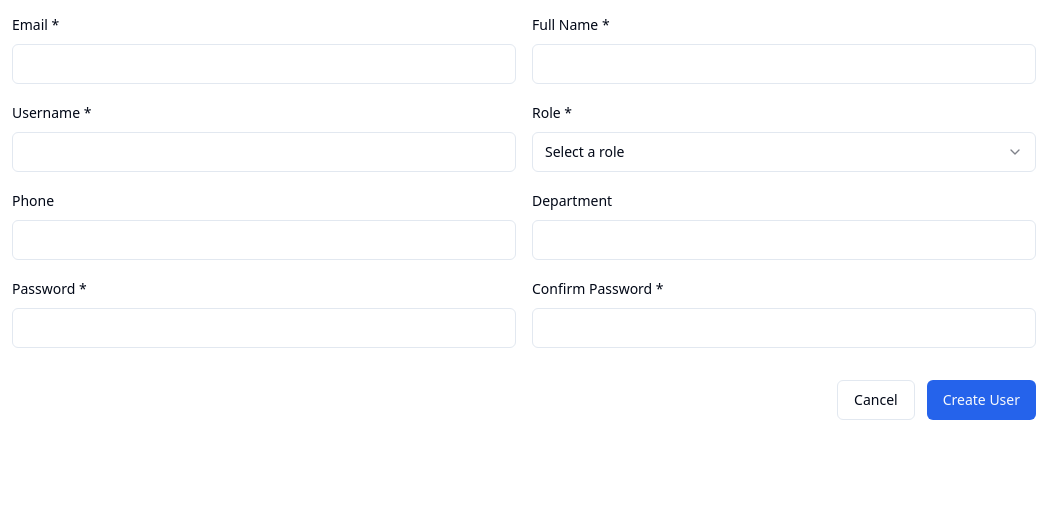
Test: UserForm › Create Mode › validates password confirmation match
The width and height of the screenshot is (1048, 521).
Type "password123" into the password field labelled "Password *".
click(264, 328); type("password123")  # box x1=12 y1=308 x2=516 y2=348
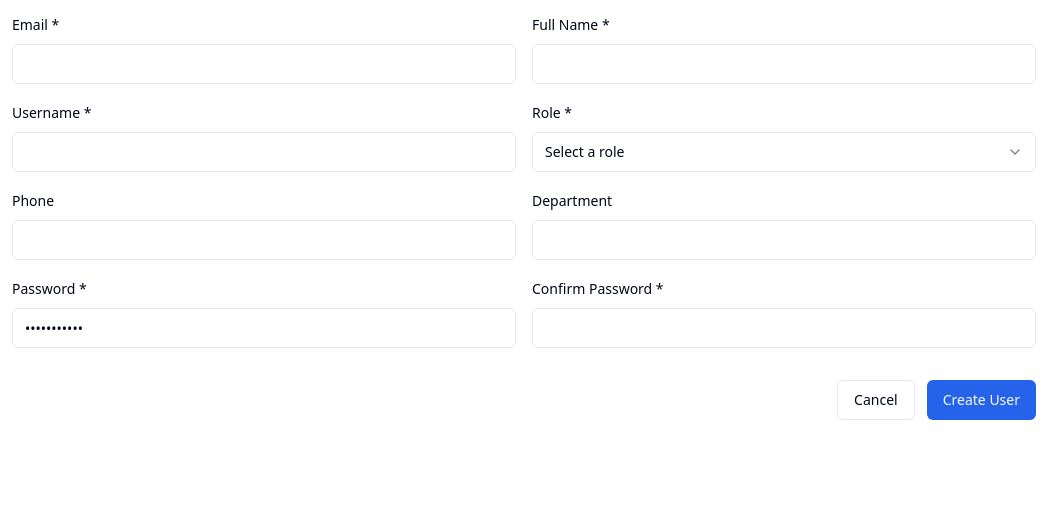
Type "password456" into the password field labelled "Confirm Password *".
click(784, 328); type("password456")  # box x1=532 y1=308 x2=1036 y2=348
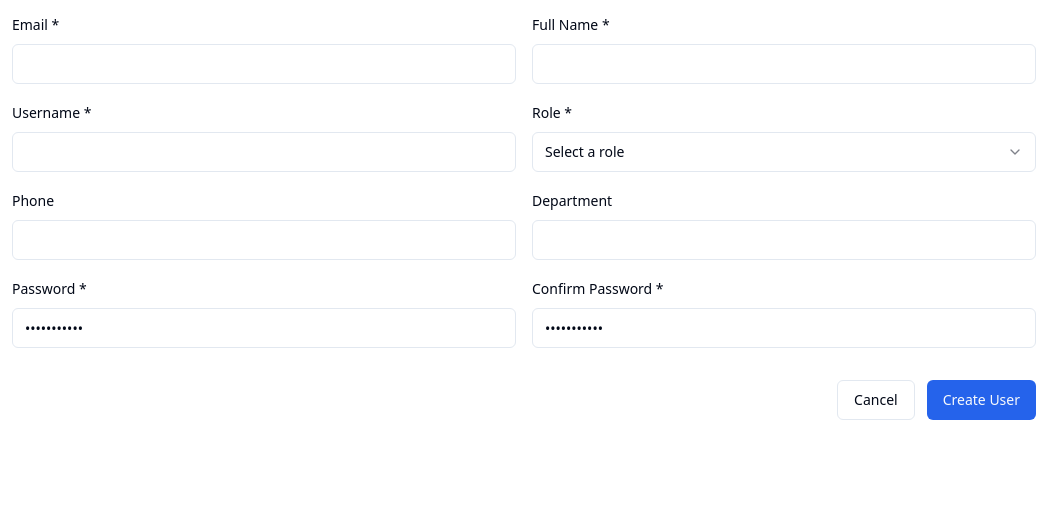
Click the button "Create User".
click(981, 400)  # box x1=927 y1=380 x2=1036 y2=420
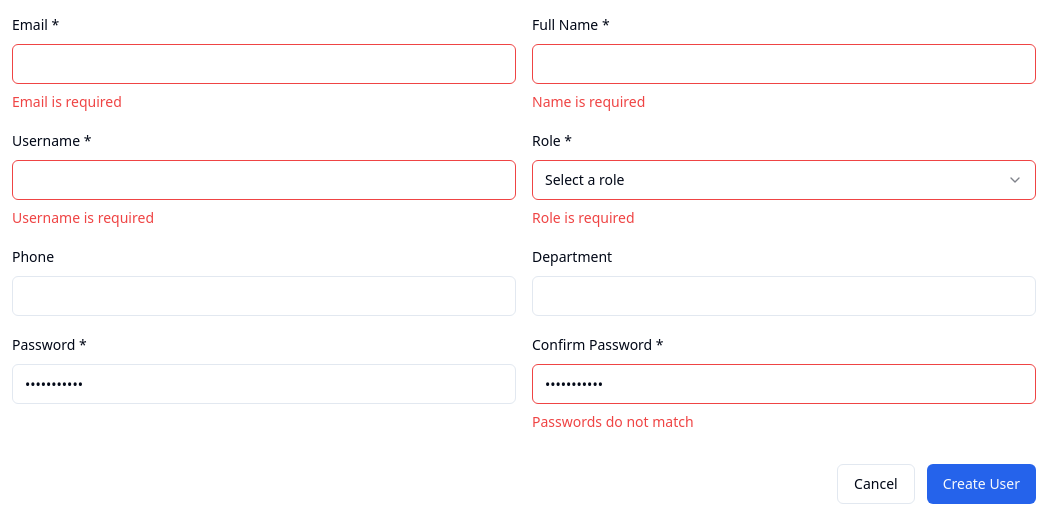
Expected: the text "Passwords do not match" is shown, x1=532 y1=412 x2=694 y2=431
